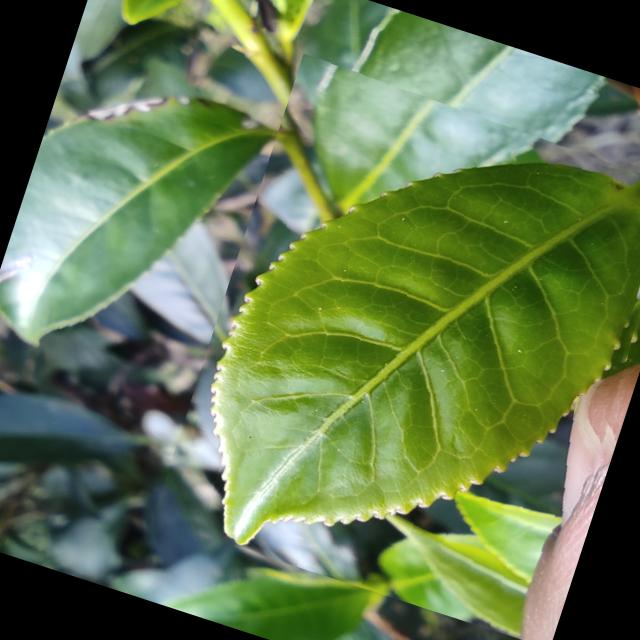Category B(2-4 days): (152, 52, 640, 640)
